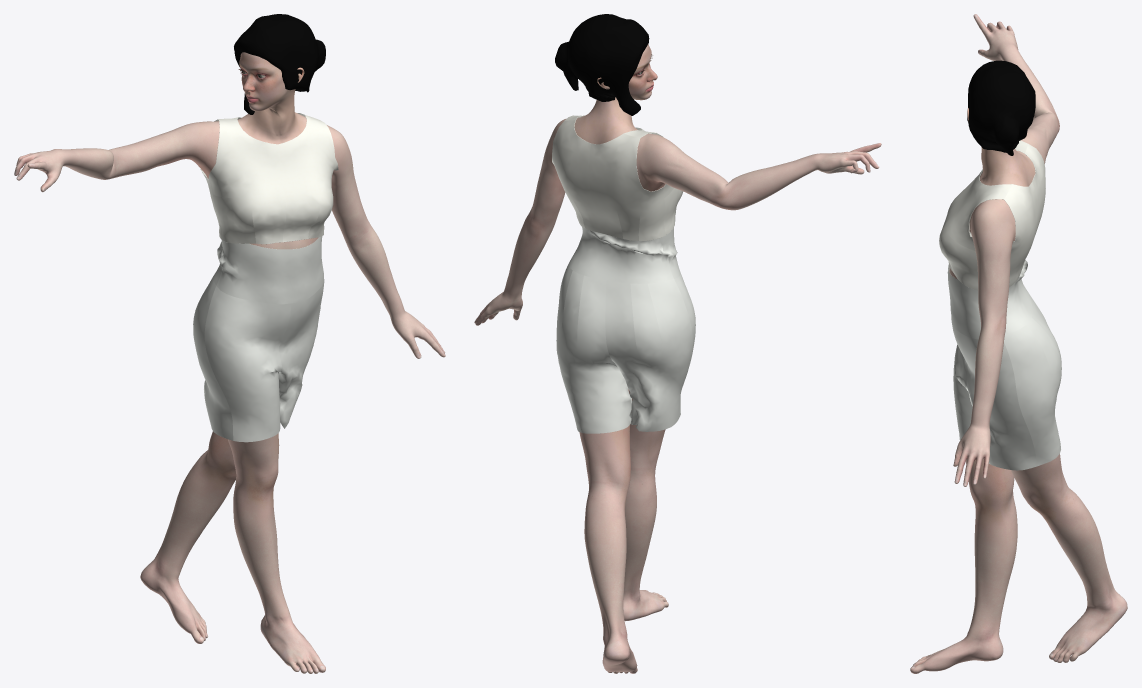
Rendered from Dramatic.obj.
3 renders of one model, left to right at view 1: azimuth 30°, elevation 25°; view 2: azimuth 150°, elevation 25°; view 3: azimuth 270°, elevation 25°, orthographic. The views are drawn at different scales.
Bounding box in the file's own units: 1226 × 1775 × 569.
